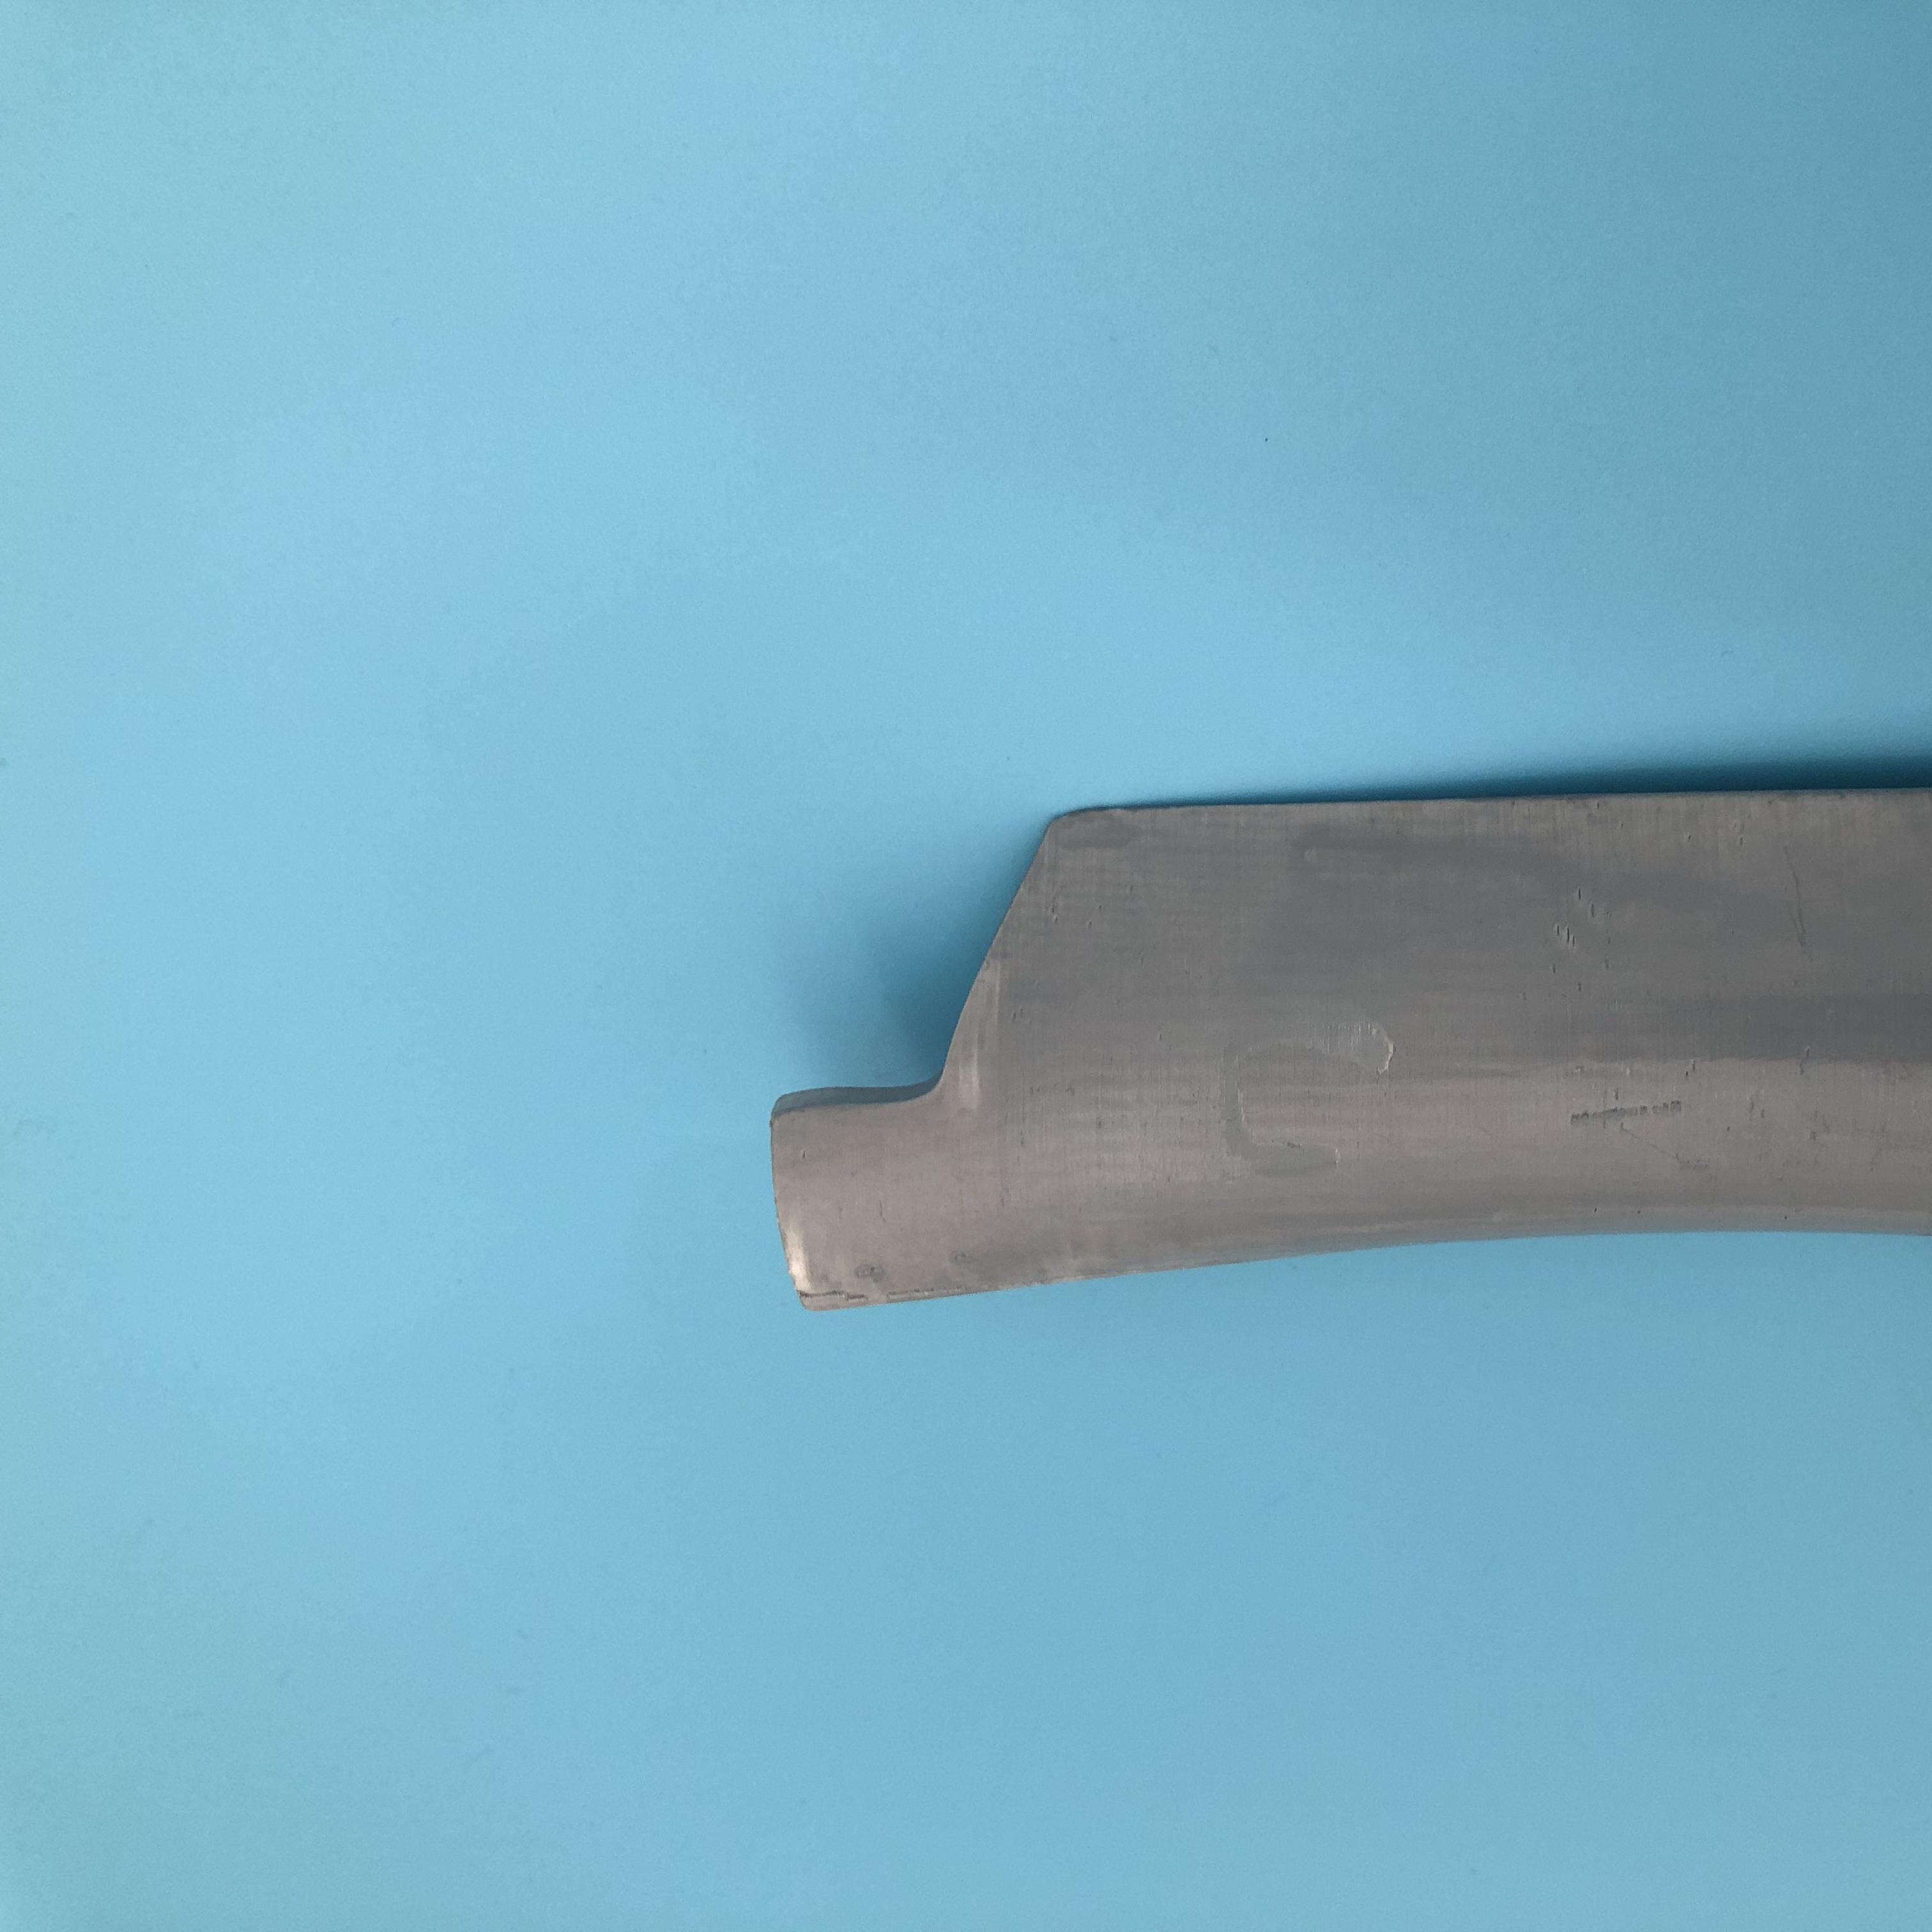fracture: (778, 809, 1111, 1136)
